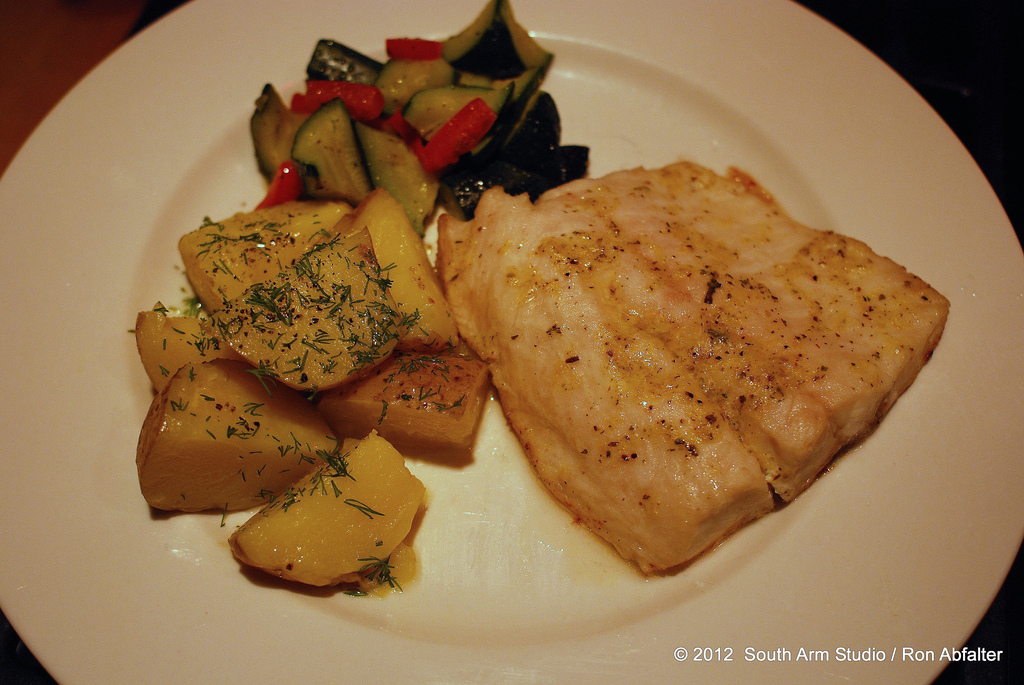boiled potatoes: (160, 184, 482, 597)
